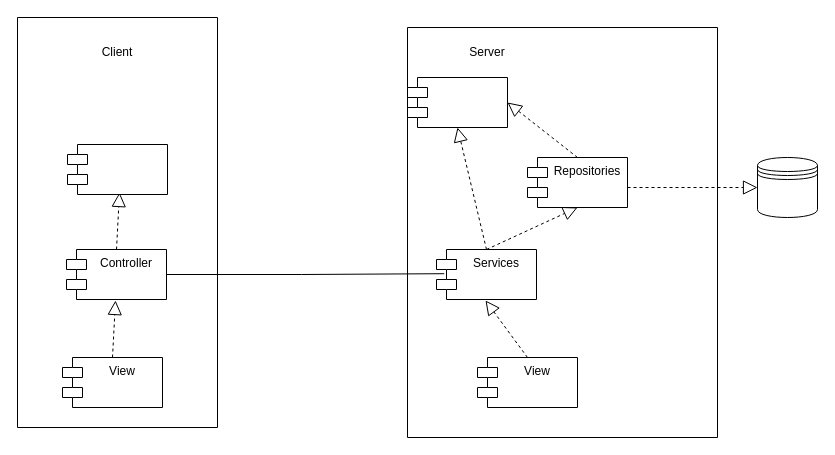
This 835x455 diagram has some shape labels left out. The shapes that lost their labels are listed below. From the top down, each one's centre as x and y in pixels, then its label:
At [457,102]: "Domain Entities".
At [117,169]: "Model".
At [787,187]: "Database".
